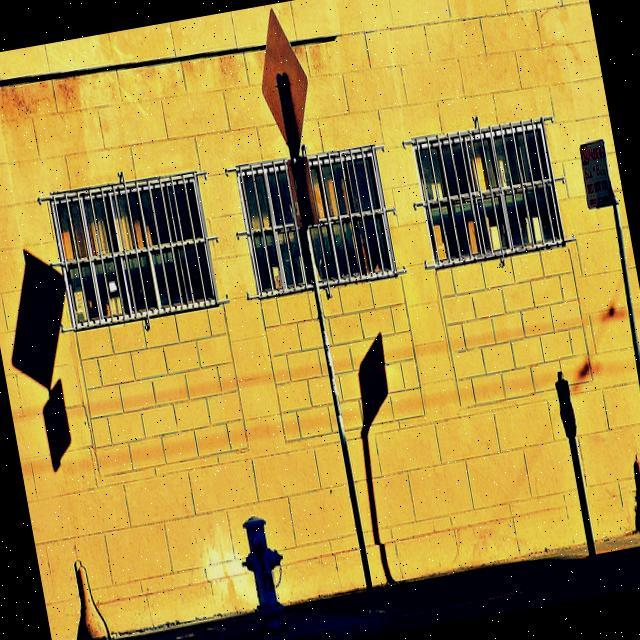fire_hydrant: (235, 512, 291, 616)
